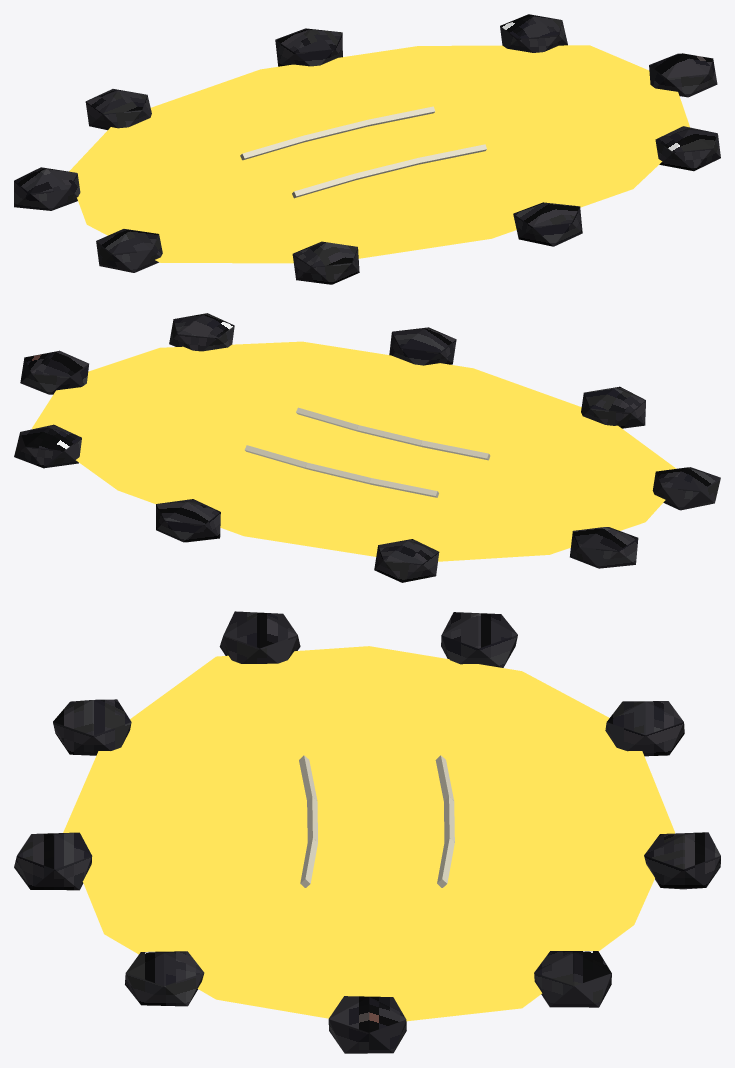
File: enfeite_lago.glb
The picture shows the model from 3 angles, top to bottom: view 1: azimuth 30°, elevation 25°; view 2: azimuth 150°, elevation 25°; view 3: azimuth 270°, elevation 25°; orthographic projection. The views are drawn at different scales.
Visible parts, largest first — view 1: vulcao_enfeite_lago; view 2: vulcao_enfeite_lago; view 3: vulcao_enfeite_lago.
Part boxes in pixels (x1,y1,x2,y2): vulcao_enfeite_lago: (14,14,720,284); vulcao_enfeite_lago: (14,313,720,582); vulcao_enfeite_lago: (14,611,720,1053).
Size of the model in its own units: 1.54 by 0.0951 by 1.09.
3 materials, 1 textured.
